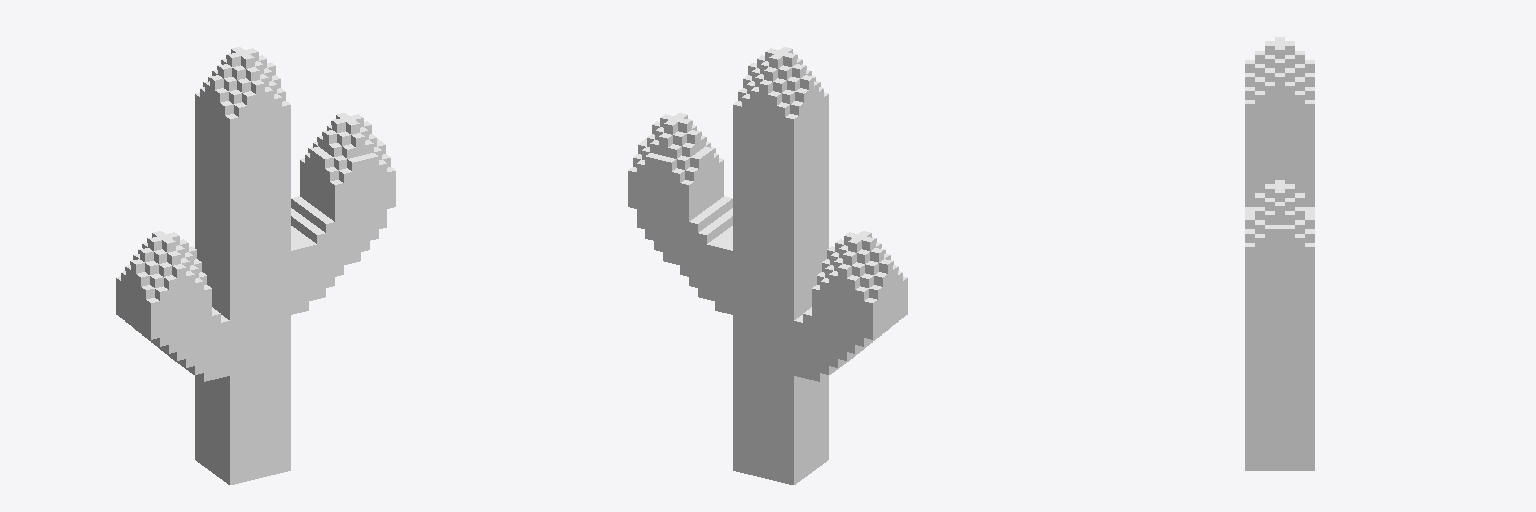
Rendered from Cactus.obj.
3 renders of one model, left to right at view 1: azimuth 30°, elevation 25°; view 2: azimuth 150°, elevation 25°; view 3: azimuth 270°, elevation 25°, orthographic.
Size of the model in its own units: 28 by 45 by 7.